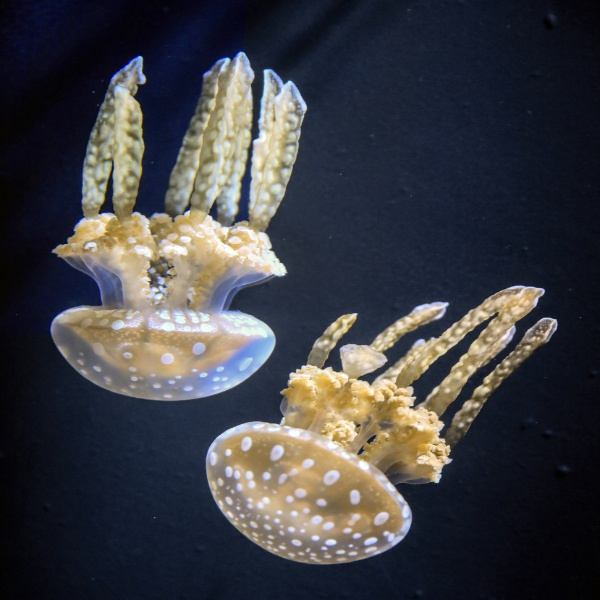Jellyfish: (204, 284, 562, 564), (43, 68, 312, 426)
